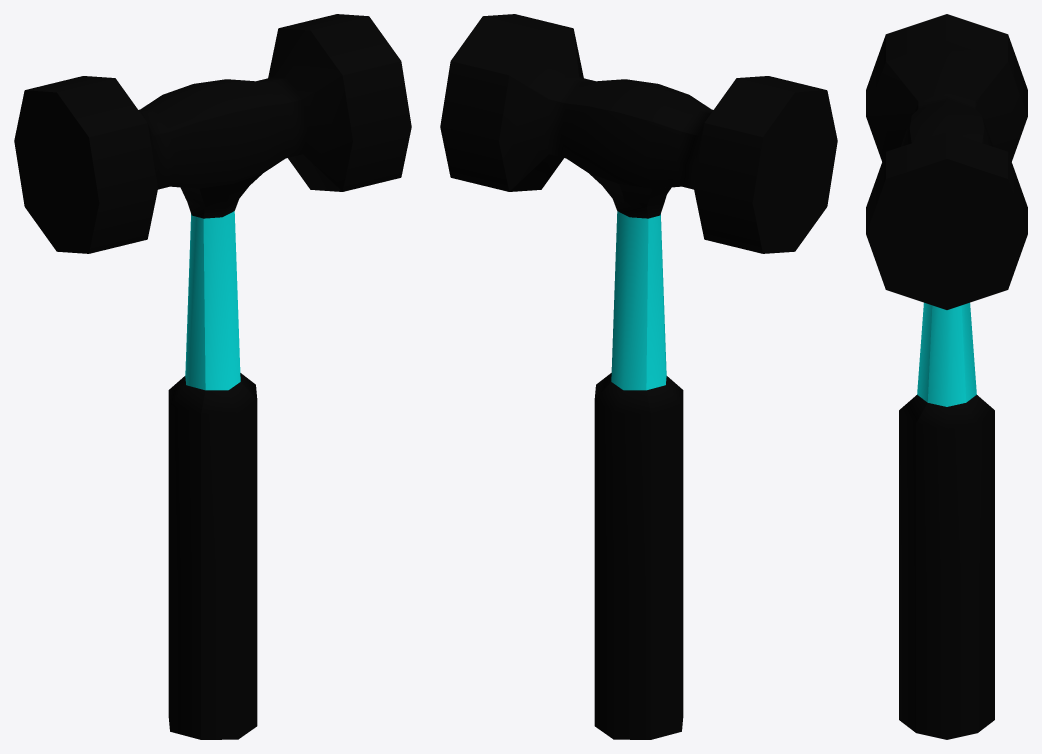
The model's file is Hammer Texture.obj.
3 views of the same model, side by side, from view 1: azimuth 30°, elevation 25°; view 2: azimuth 150°, elevation 25°; view 3: azimuth 270°, elevation 25° (orthographic). The views are drawn at different scales.
Parts seen in each view (by area): view 1: pCube3; view 2: pCube3; view 3: pCube3.
Boxes of the visible parts, x1,y1,x2,y2 form: pCube3: (14, 14, 411, 739); pCube3: (440, 14, 837, 739); pCube3: (866, 14, 1027, 739).
Size of the model in its own units: 7.72 by 15.76 by 3.65.
